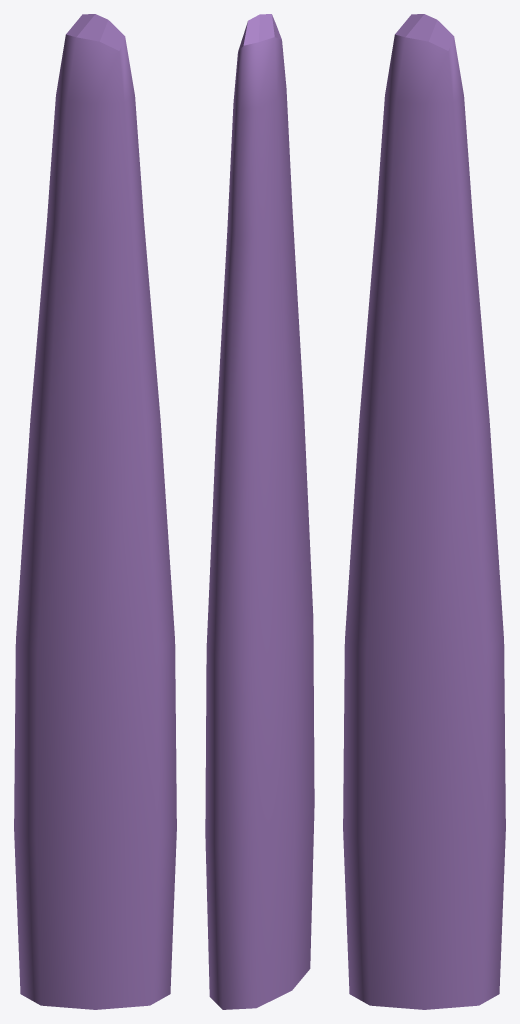
Rendered from Brazo.obj.
The picture shows the model from 3 angles, left to right: view 1: azimuth 90°, elevation 25°; view 2: azimuth 150°, elevation 25°; view 3: azimuth 270°, elevation 25°; orthographic projection.
Visible parts, largest first — view 1: brazo_Cube; view 2: brazo_Cube; view 3: brazo_Cube.
Boxes of the visible parts, <box> form: brazo_Cube: <box>14,14,176,1009</box>; brazo_Cube: <box>205,14,314,1009</box>; brazo_Cube: <box>343,14,505,1009</box>.
Size of the model in its own units: 0.1417 by 1.88 by 0.2834.
1 material, 1 textured.
